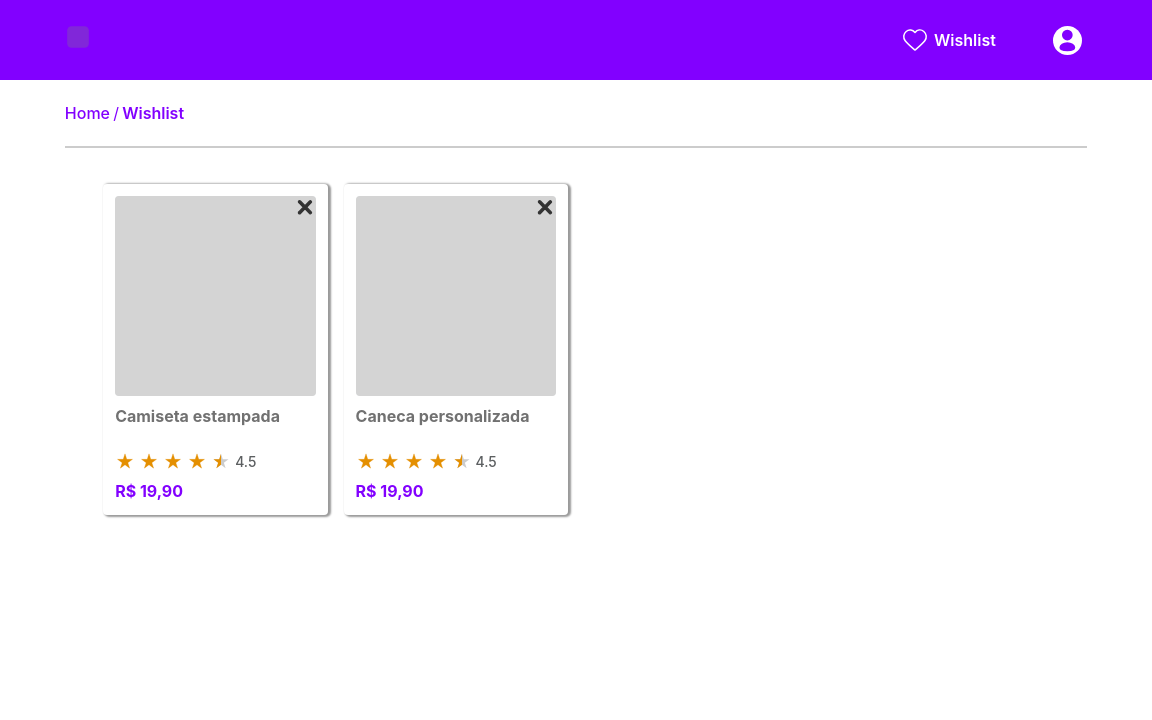
Test: Página Wishlist › renderiza produtos salvos e permite remover da wishlist
Expected: the heading "Camiseta estampada" is shown, [115, 406, 280, 426]
Expected: the heading "Caneca personalizada" is shown, [356, 406, 530, 426]
Click the 1st button named "Remover da wishlist". click: (305, 207)
box: [290, 192, 320, 222]
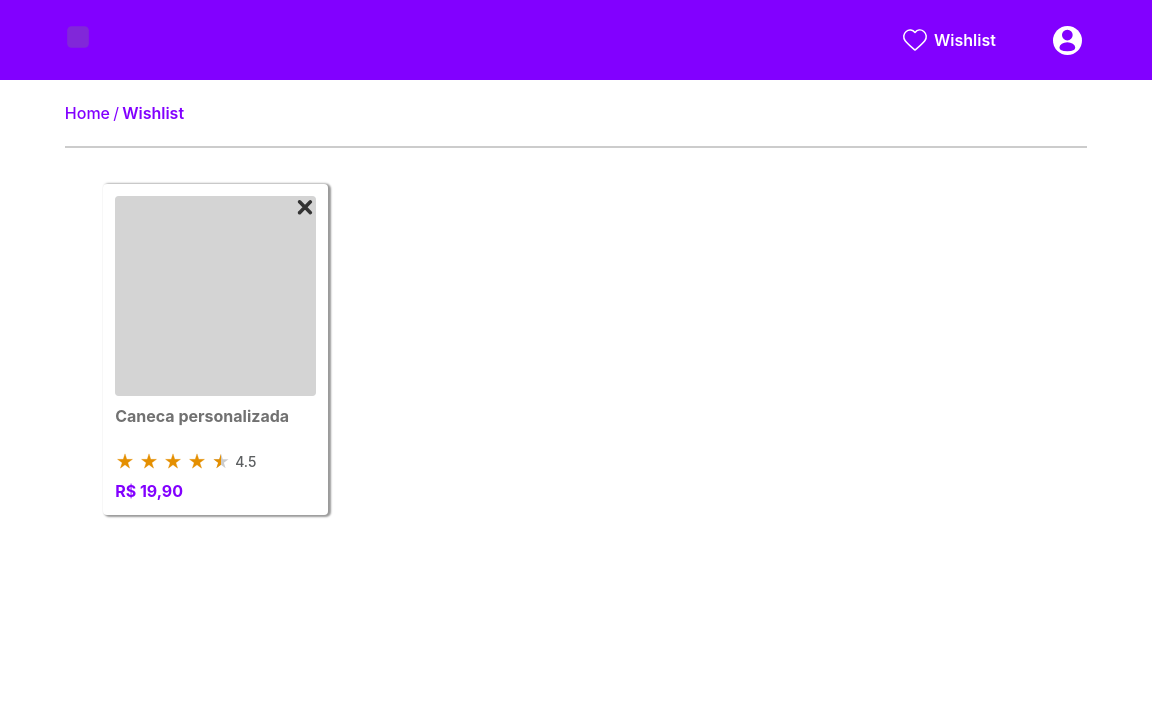
Click the button named "Remover da wishlist". click: (305, 207)
box: [290, 192, 320, 222]
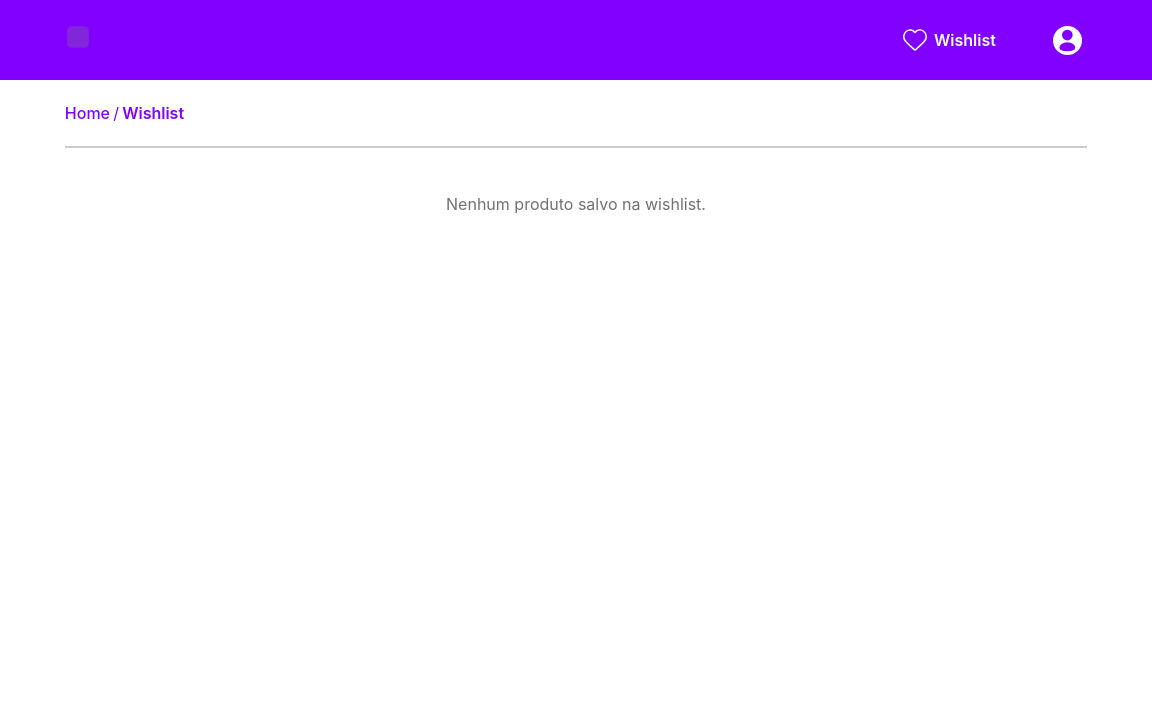
Now the text "Nenhum produto salvo na wishlist." is shown, box [446, 194, 706, 214]
